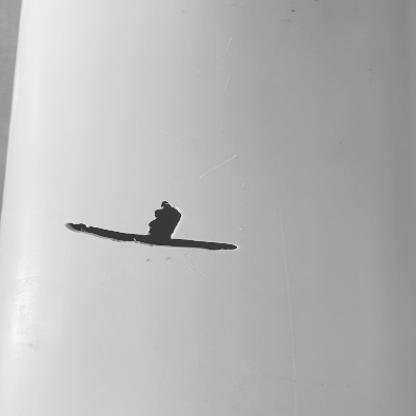fengxi: (66, 221, 240, 251)
kongdong: (147, 199, 181, 239)
